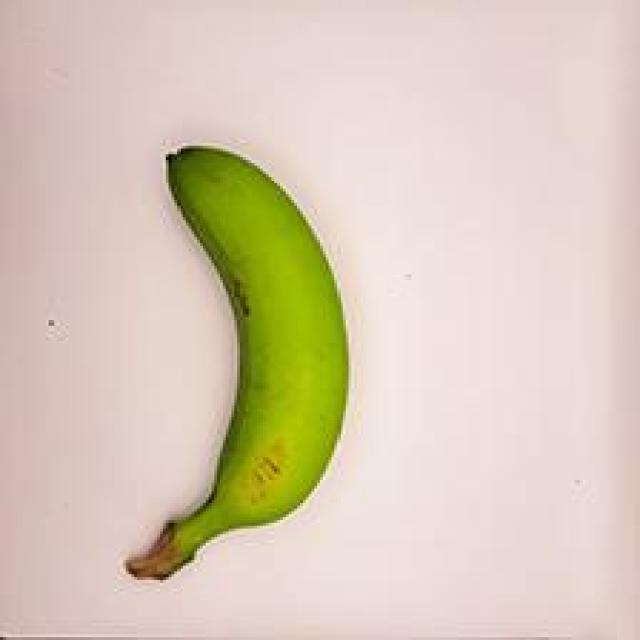Unripe: (108, 123, 357, 584)
